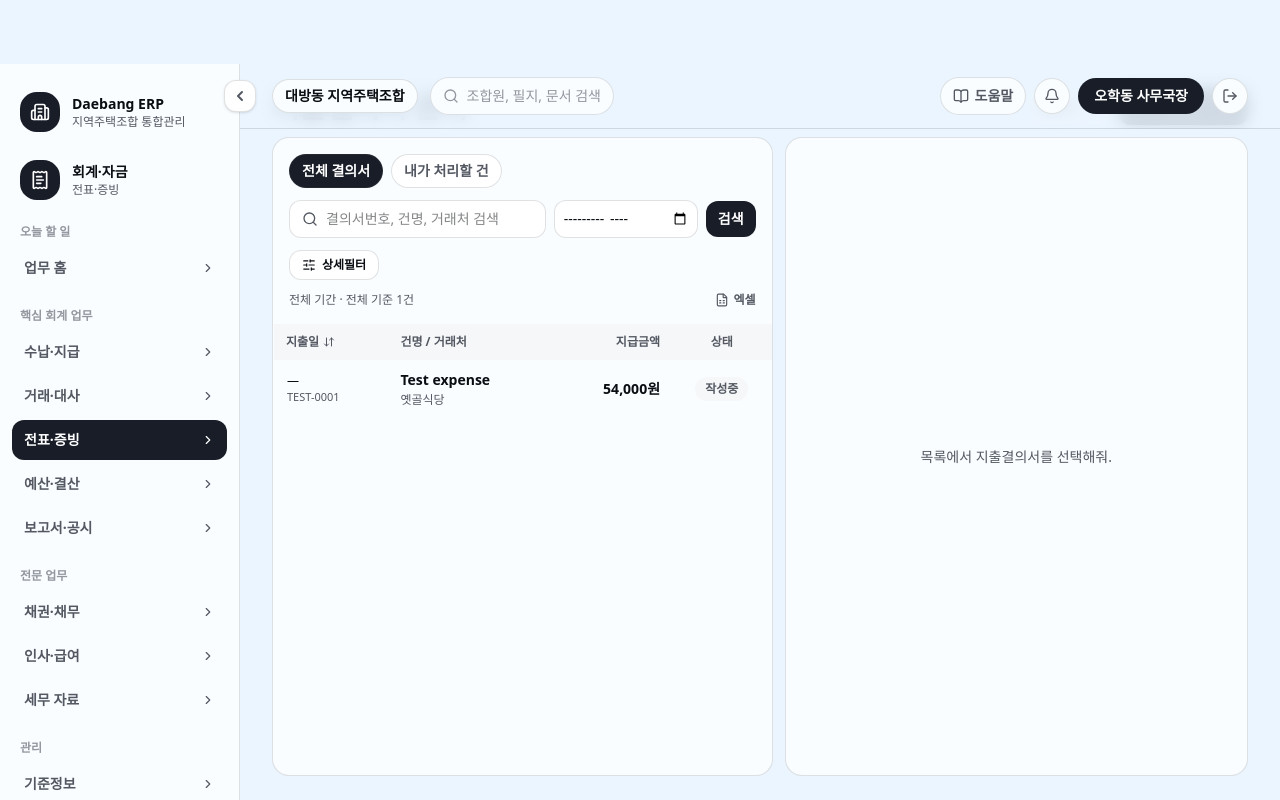
Test: ExpenseResolutionPage › compresses multiple expenses and expands one row on demand
The image size is (1280, 800).
Click the button with aria-label "상세보기".
click(470, 380)  # box 400,370 -> 541,390
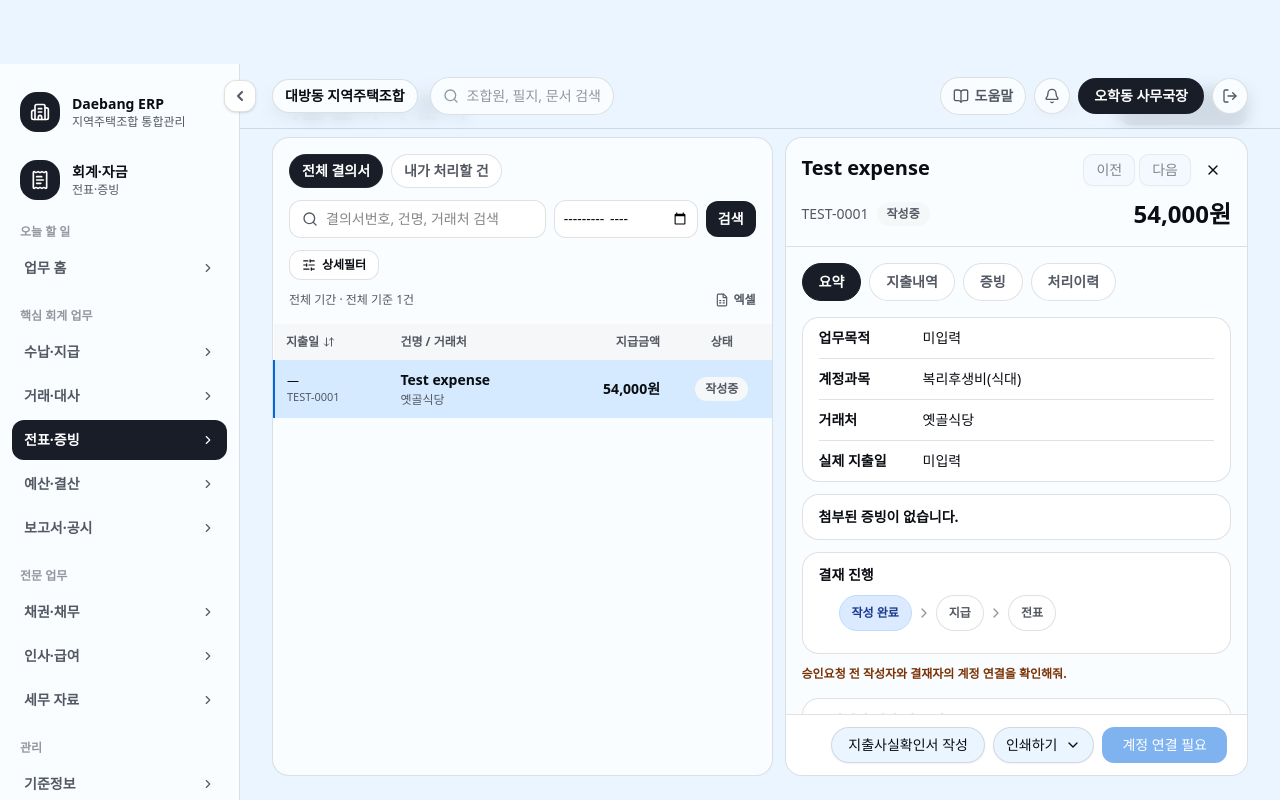
Click the button "지출내역".
click(912, 282)  # box 869,263 -> 955,301
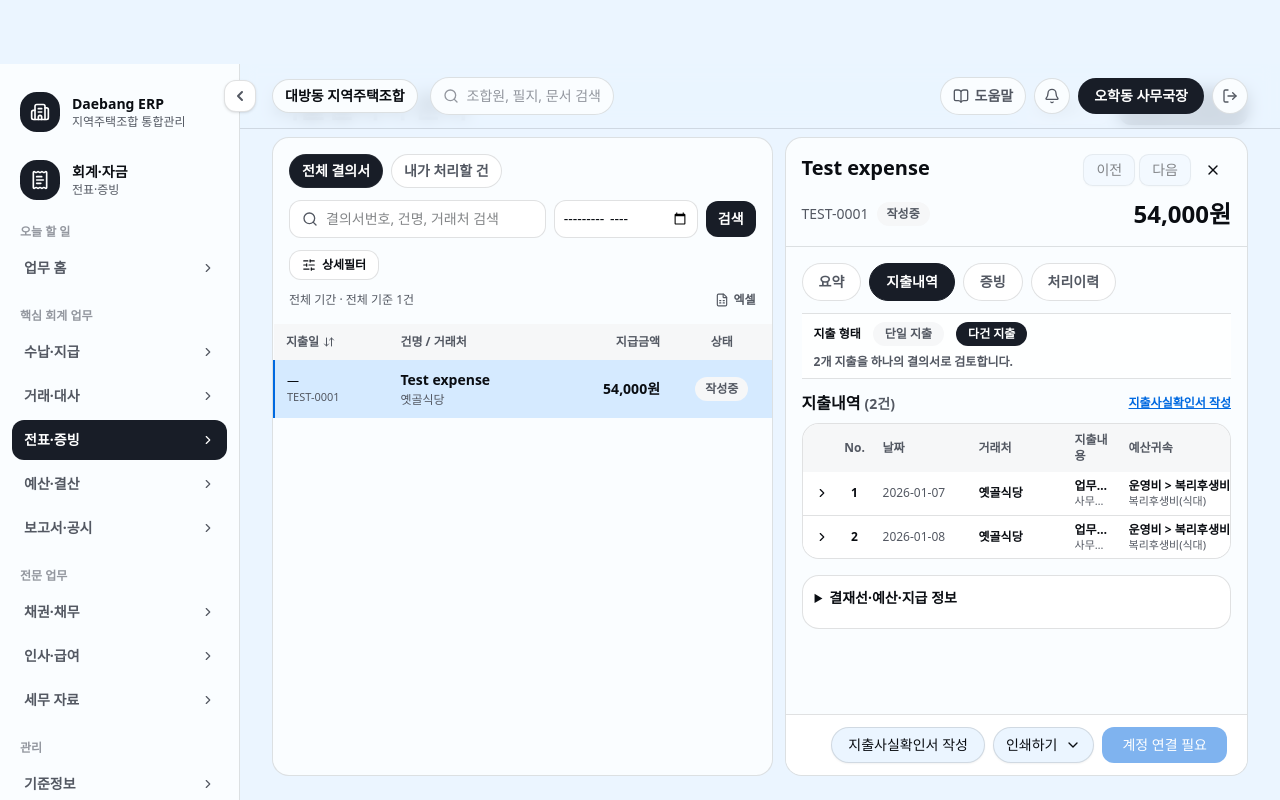
Expected: the column heading "실제 지출자" is not shown
Now the column heading "예산귀속" is shown, box 1120,424 -> 1231,472
Click the button named "1번 지출 상세 펼치기".
click(822, 493)  # box 810,482 -> 832,504
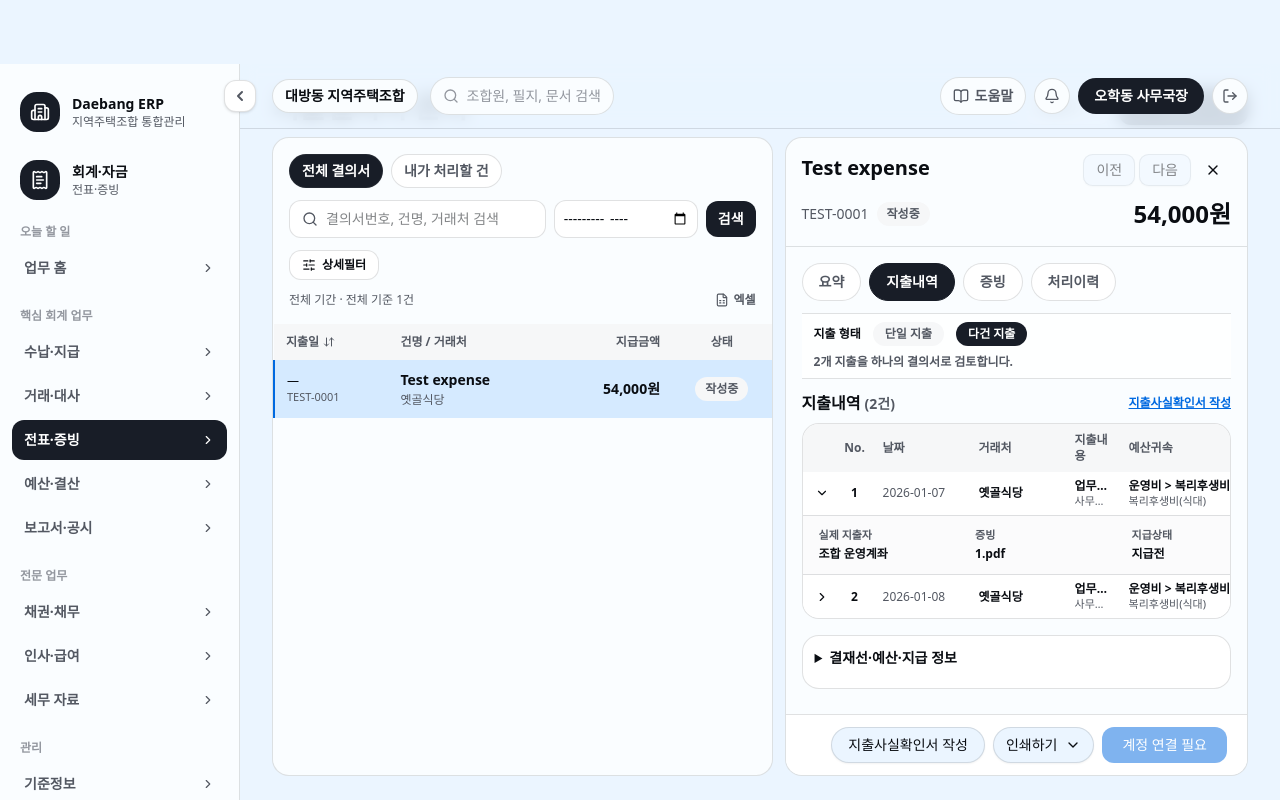
Now the text "조합 운영계좌" is shown, box 818,545 -> 888,562
